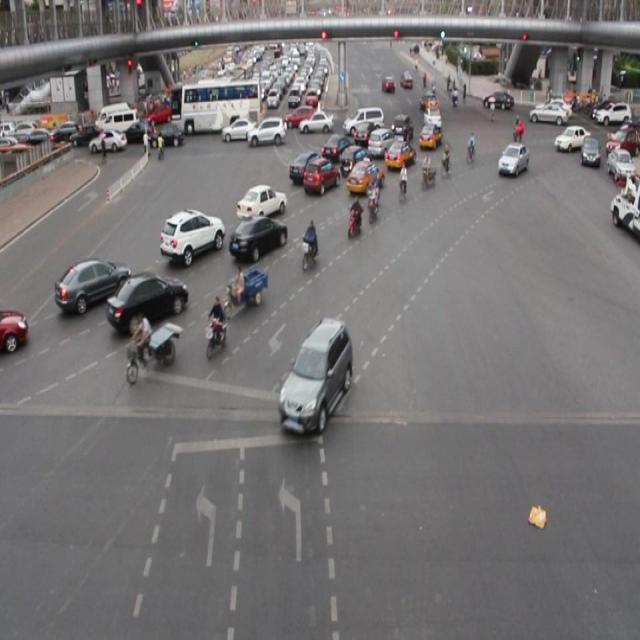car: (278, 322, 351, 432), (109, 273, 187, 327), (57, 256, 131, 308), (159, 204, 224, 258), (228, 212, 287, 263), (235, 182, 288, 222), (1, 304, 31, 354), (346, 158, 384, 196), (302, 158, 338, 193), (289, 147, 321, 182), (337, 144, 369, 177), (497, 141, 526, 177), (384, 138, 414, 170), (365, 127, 395, 155), (322, 132, 349, 158), (416, 124, 440, 151)
